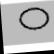no answer: (16, 4, 52, 34)
